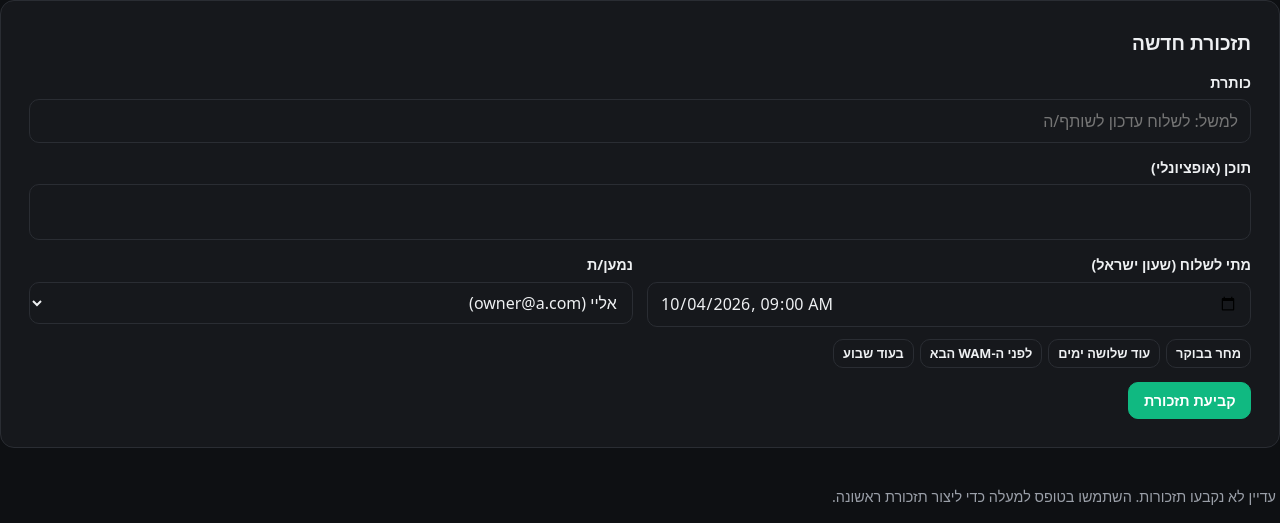
it: RemindersPage › surfaces a server-side validation error (e.g. invalid recipient) without crashing
Expected: the text "עדיין לא נקבעו תזכורות" is shown, [832,487,1276,506]
Type "כותרת" into the field labelled "כותרת" at (640, 121), box [29,99,1251,143]
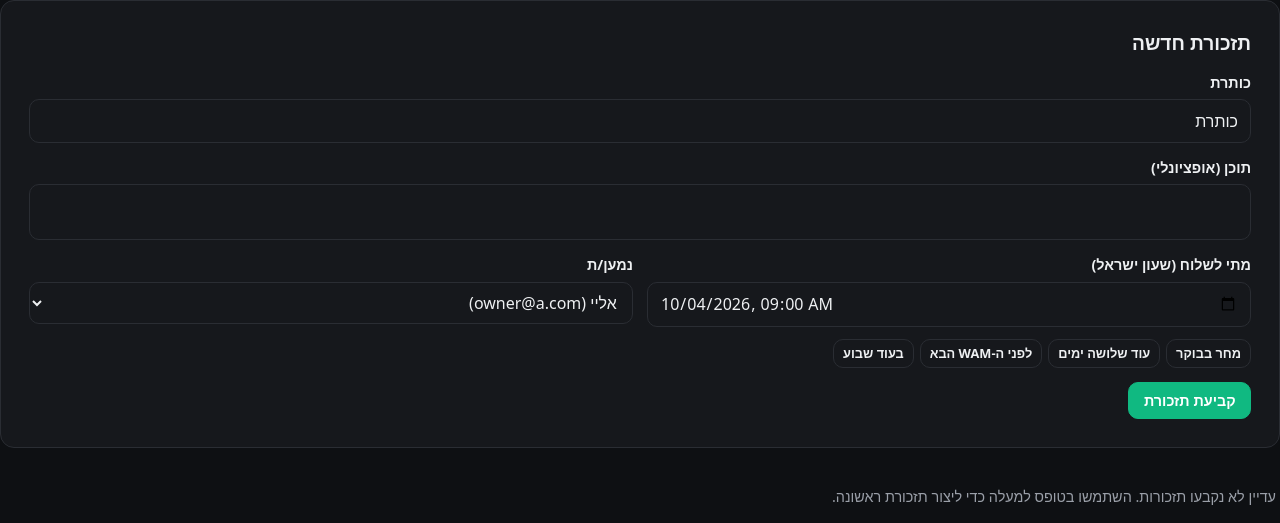
Replace the text in the field labelled "מתי לשלוח (שעון ישראל)" with "2099-06-15T10:00" at (949, 304), box [647,282,1251,327]
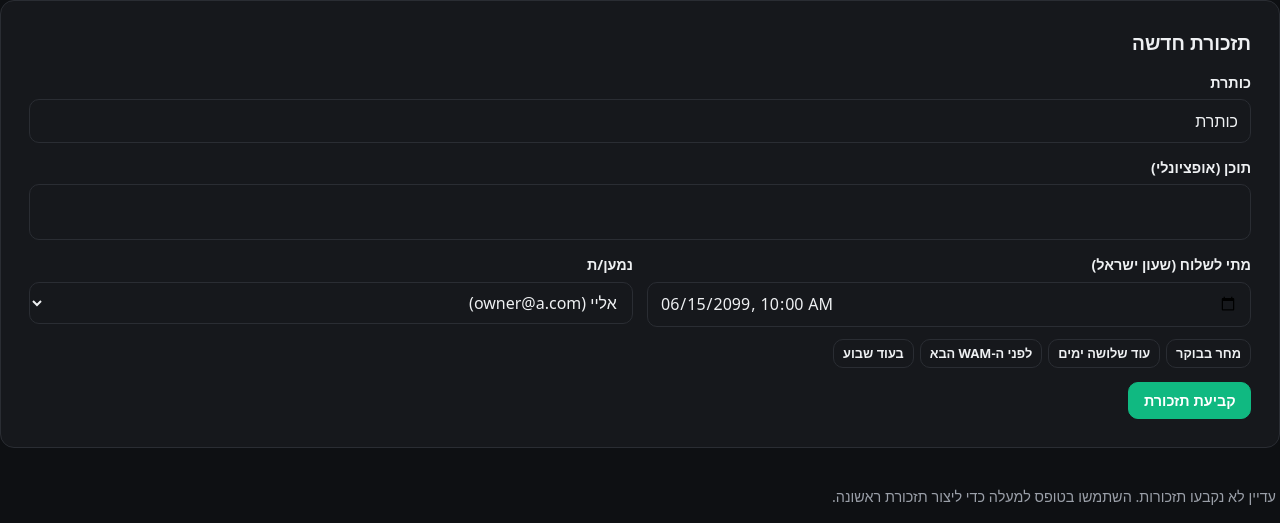
Click the button "קביעת תזכורת" at (1190, 400), box [1128,382,1251,419]
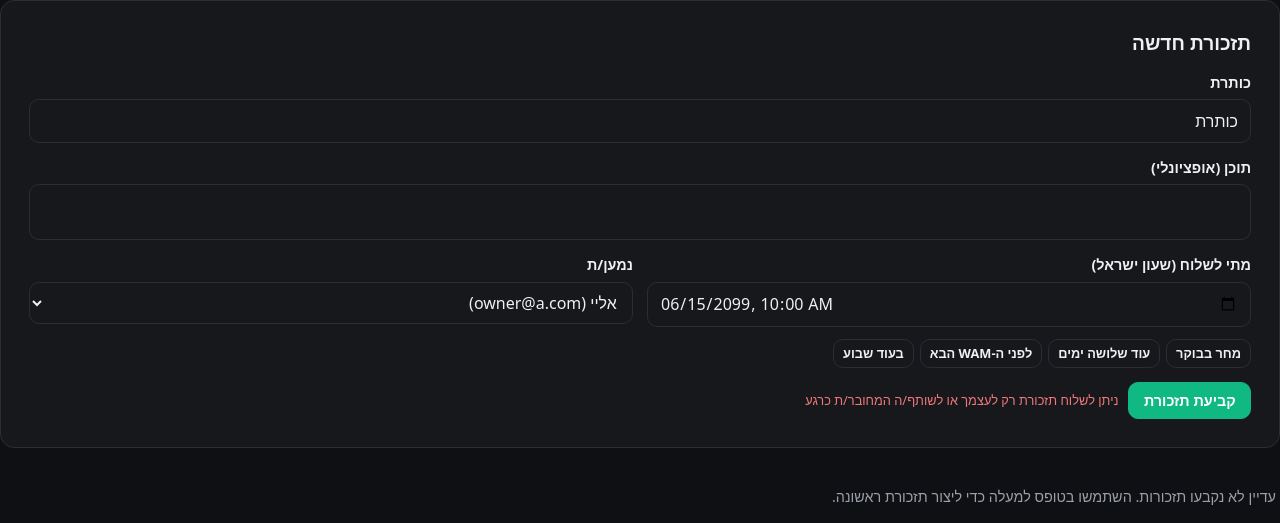
Expected: the text "ניתן לשלוח תזכורת רק לעצמך או לשותף/ה המחובר/ת כרגע" is shown, [805,391,1118,410]
